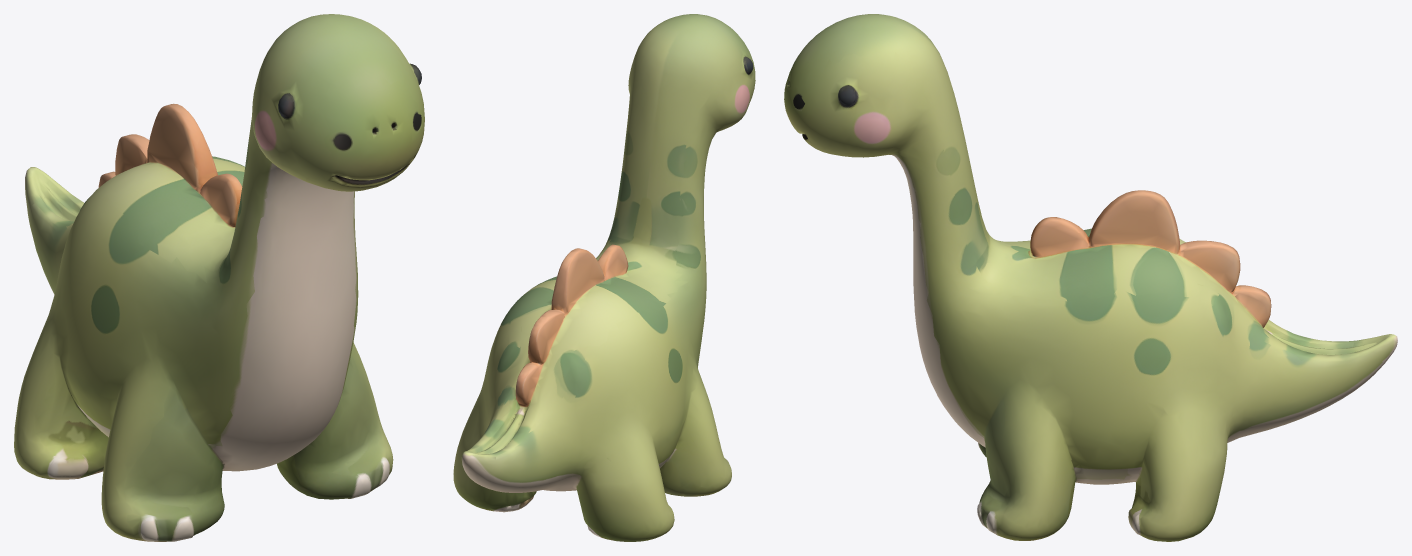
The model's file is Doll.fbx.
3 views of the same model, side by side, from view 1: azimuth 30°, elevation 25°; view 2: azimuth 150°, elevation 25°; view 3: azimuth 270°, elevation 25° (orthographic). The views are drawn at different scales.
Visible parts, largest first — view 1: model; view 2: model; view 3: model.
Boxes of the visible parts, x1,y1,x2,y2 form: model: (14, 14, 424, 541); model: (453, 14, 755, 541); model: (784, 14, 1397, 541).
Bounding box in the file's own units: 88.36 × 159 × 190.
